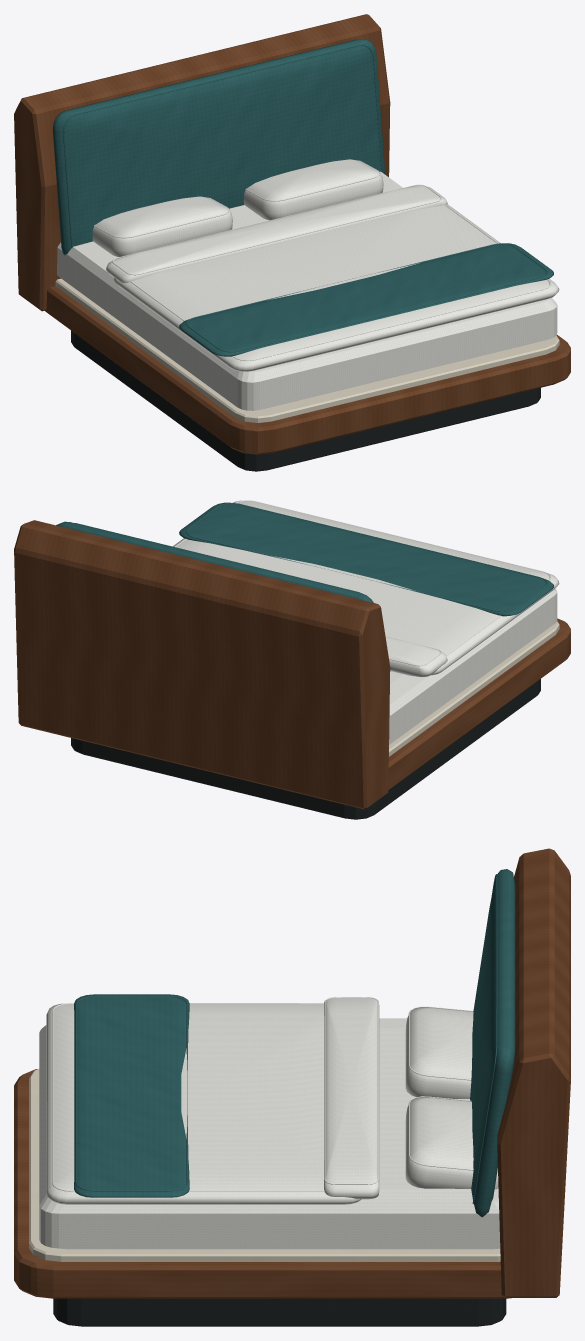
The model's file is AST-SLP-002.glb.
3 renders of one model, top to bottom at view 1: azimuth 30°, elevation 25°; view 2: azimuth 150°, elevation 25°; view 3: azimuth 270°, elevation 25°, orthographic. The views are drawn at different scales.
Parts seen in each view (by area): view 1: AST-SLP-002_static_visual; view 2: AST-SLP-002_static_visual; view 3: AST-SLP-002_static_visual.
Part boxes in pixels (x1,y1,x2,y2): AST-SLP-002_static_visual: (14,14,570,471); AST-SLP-002_static_visual: (14,500,570,819); AST-SLP-002_static_visual: (14,848,570,1326).
Bounding box in the file's own units: 2.13 × 1.37 × 2.41.
Materials: 5 (5 with a texture image).
